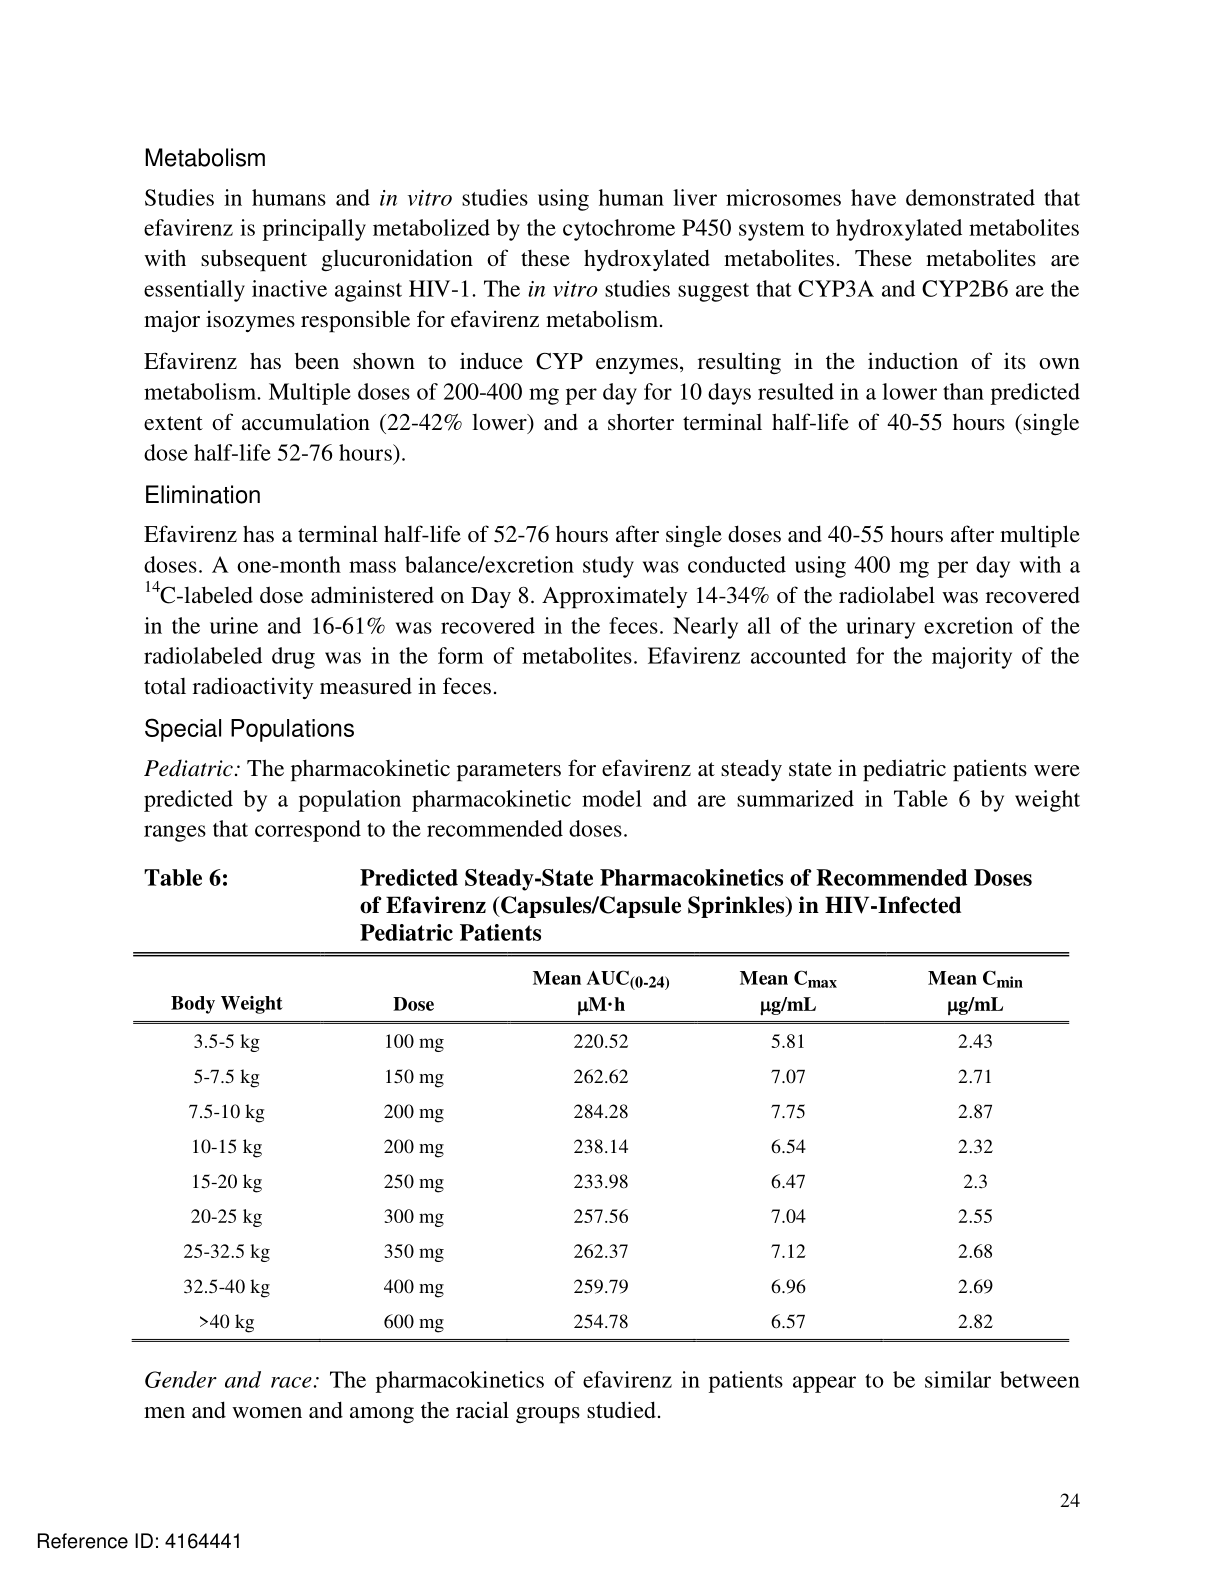partial_lined: (130, 950, 1071, 1344)
